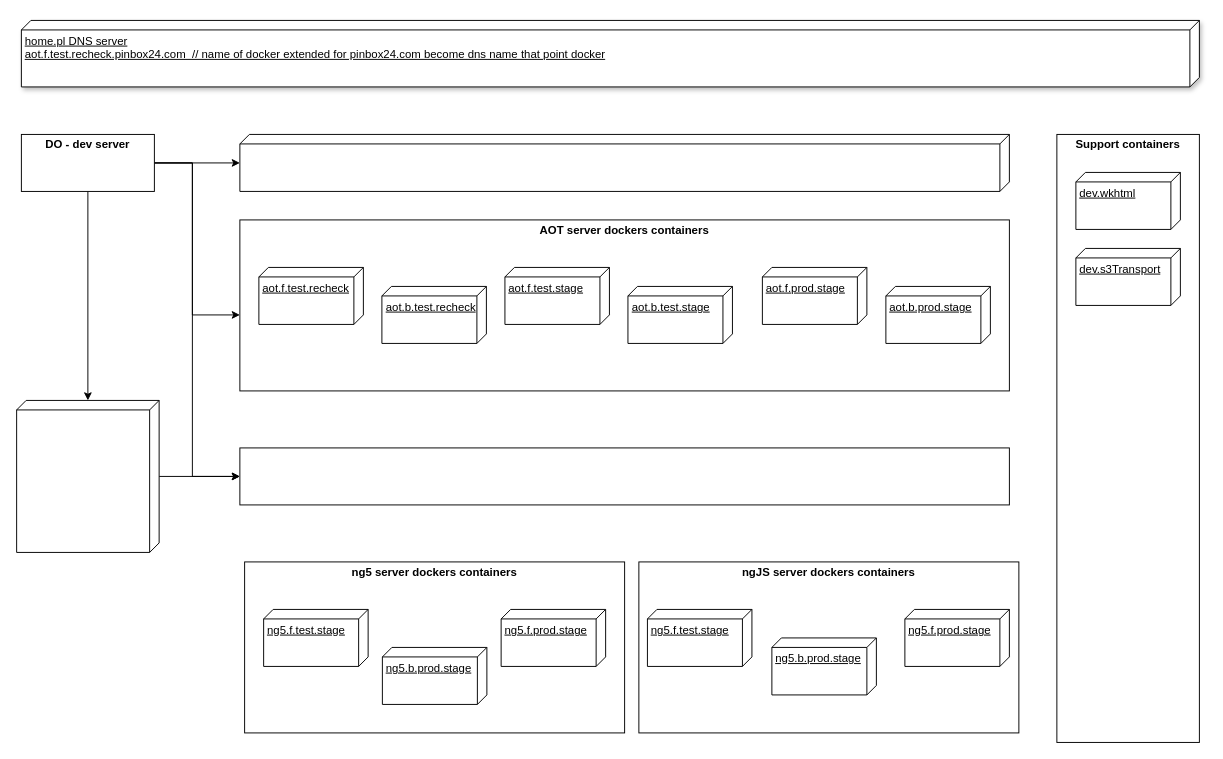
This 1223x759 diagram has some shape labels left out. Here are the shapes that lost their labels. From the top down, the centre of each, then its label:
At (x=624, y=162): "ngnix master map ports for containers".
At (x=87, y=475): "Build docker".
At (x=624, y=476): "dockers volumens".
